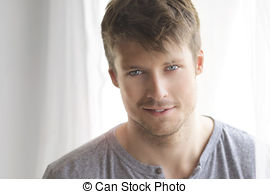face: (101, 3, 204, 140)
